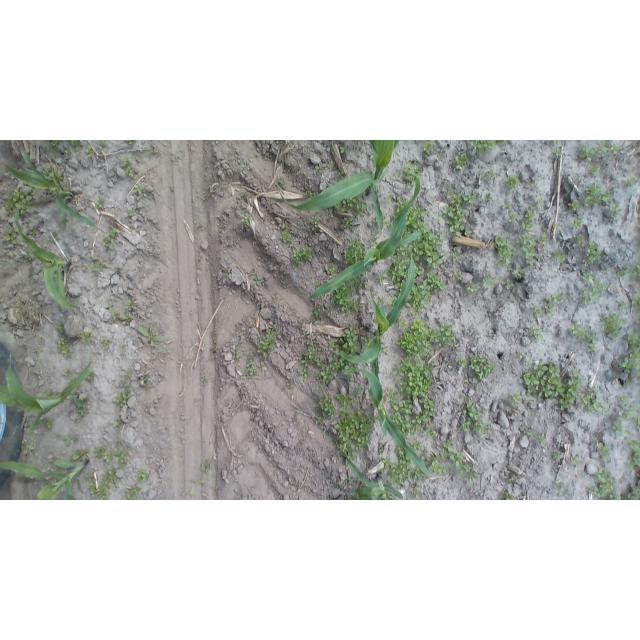Maize: (310, 171, 422, 298), (280, 141, 398, 236), (344, 359, 432, 478), (331, 249, 415, 364), (2, 144, 100, 231), (2, 351, 93, 435), (16, 207, 81, 310), (0, 460, 90, 501), (345, 457, 404, 500)
Weeds: (520, 360, 583, 411), (333, 408, 378, 460), (381, 447, 424, 486), (442, 439, 478, 481), (397, 318, 435, 357), (394, 358, 434, 395), (445, 192, 478, 236), (460, 397, 493, 434), (416, 228, 444, 269), (588, 467, 621, 500), (331, 285, 360, 316), (391, 397, 413, 435), (5, 188, 35, 214), (415, 397, 436, 431), (301, 340, 327, 367), (137, 325, 167, 348), (581, 283, 611, 306), (603, 313, 628, 340), (495, 235, 516, 266), (471, 356, 498, 379), (516, 234, 536, 265), (84, 474, 108, 499), (344, 239, 366, 263), (340, 327, 361, 352), (409, 287, 430, 311), (581, 387, 600, 413), (258, 328, 275, 356), (628, 331, 640, 369), (435, 324, 455, 346), (470, 140, 506, 152), (585, 242, 602, 267), (626, 440, 640, 469), (408, 208, 428, 227), (545, 294, 564, 314), (399, 245, 420, 263), (425, 272, 443, 293), (319, 398, 337, 419), (570, 325, 595, 340), (584, 183, 600, 205), (293, 247, 312, 265), (622, 483, 640, 500), (428, 455, 445, 473), (189, 480, 208, 496), (391, 262, 406, 282), (319, 365, 334, 383), (404, 162, 418, 181), (58, 338, 71, 358), (335, 394, 355, 407), (356, 198, 368, 219), (620, 408, 639, 421), (103, 470, 118, 486), (112, 393, 129, 407), (523, 212, 535, 230), (115, 451, 130, 465), (579, 146, 594, 160), (384, 388, 399, 402), (315, 162, 335, 172), (530, 326, 544, 340), (452, 155, 467, 168), (620, 357, 632, 373), (71, 449, 90, 459), (505, 176, 519, 189), (553, 250, 568, 262), (510, 392, 523, 405), (409, 485, 420, 500), (311, 309, 324, 321), (136, 470, 149, 482), (4, 230, 16, 243), (599, 443, 610, 457), (483, 275, 494, 289), (465, 281, 479, 292), (43, 141, 60, 150), (63, 435, 78, 445), (141, 373, 151, 388), (567, 198, 579, 210), (123, 311, 134, 324), (602, 189, 613, 202), (582, 271, 595, 282), (54, 321, 64, 335), (311, 217, 320, 232), (451, 248, 460, 263), (424, 140, 435, 152), (573, 235, 585, 246), (617, 267, 629, 278), (412, 439, 424, 450), (453, 270, 464, 282), (610, 204, 620, 217), (423, 425, 436, 435), (69, 140, 83, 149), (596, 141, 608, 151), (501, 492, 516, 500), (502, 279, 514, 289), (246, 354, 255, 367), (331, 360, 341, 371), (94, 447, 105, 457), (125, 300, 135, 311), (92, 261, 103, 271), (281, 231, 291, 242), (591, 166, 602, 176), (300, 368, 312, 377), (120, 383, 132, 392), (371, 231, 380, 243), (512, 270, 524, 279), (632, 264, 640, 277), (201, 460, 211, 470), (42, 418, 52, 428), (81, 333, 91, 343), (573, 219, 583, 229), (533, 307, 543, 317), (397, 198, 408, 207), (105, 452, 113, 464), (344, 198, 356, 206), (102, 338, 111, 348), (112, 310, 121, 320), (95, 200, 105, 209), (50, 231, 59, 241), (459, 359, 469, 368), (24, 447, 35, 455), (344, 217, 352, 228), (76, 409, 88, 416), (86, 145, 93, 157), (134, 185, 143, 194), (612, 145, 621, 154), (278, 179, 286, 189), (632, 295, 640, 305), (586, 343, 596, 351), (510, 211, 517, 222), (355, 278, 364, 286), (249, 367, 257, 376), (124, 368, 132, 377), (102, 236, 111, 244), (540, 233, 548, 242), (614, 423, 623, 431), (348, 476, 356, 485), (52, 434, 59, 444), (123, 156, 133, 163), (628, 178, 638, 185), (96, 141, 107, 147), (257, 277, 265, 285), (196, 222, 204, 230), (515, 350, 523, 358), (114, 421, 123, 428), (87, 373, 94, 382), (539, 435, 546, 444), (554, 450, 561, 459), (575, 457, 582, 466), (128, 488, 140, 493), (127, 165, 133, 175), (65, 368, 72, 376), (242, 215, 249, 223), (488, 169, 495, 177), (636, 418, 640, 432), (400, 319, 407, 327), (354, 388, 362, 395), (109, 302, 115, 311), (328, 265, 334, 274), (122, 495, 135, 499), (202, 376, 209, 383), (130, 209, 137, 216), (109, 229, 116, 236), (341, 146, 348, 153), (537, 199, 544, 206), (621, 302, 628, 309), (603, 409, 610, 416), (120, 344, 126, 352), (223, 268, 229, 276), (509, 475, 515, 483), (335, 205, 344, 210), (552, 220, 556, 231), (34, 357, 40, 364), (126, 445, 133, 451), (305, 191, 312, 197), (485, 193, 492, 199), (555, 148, 561, 155), (525, 429, 532, 435), (559, 482, 566, 488), (465, 378, 472, 384), (496, 276, 503, 282), (340, 358, 345, 366), (26, 231, 34, 236), (529, 206, 537, 211), (525, 360, 533, 365), (287, 383, 293, 389), (345, 366, 349, 375), (44, 389, 50, 395), (483, 407, 489, 413), (621, 394, 627, 400), (236, 352, 241, 359), (126, 141, 137, 144), (82, 264, 87, 270), (298, 163, 303, 169), (385, 196, 391, 201), (404, 230, 410, 235), (506, 203, 511, 209), (420, 456, 426, 461), (35, 348, 40, 353), (338, 172, 343, 177), (557, 492, 563, 496), (423, 447, 429, 451), (280, 223, 285, 227), (554, 140, 558, 144), (534, 184, 538, 188), (150, 150, 155, 153)
